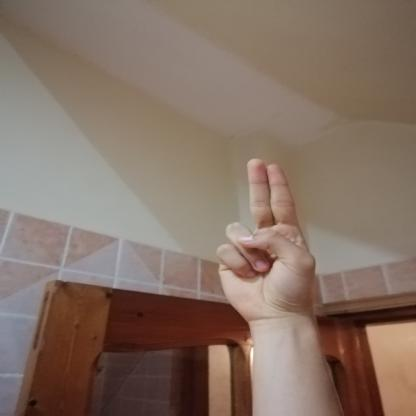TA: (202, 148, 335, 332)
